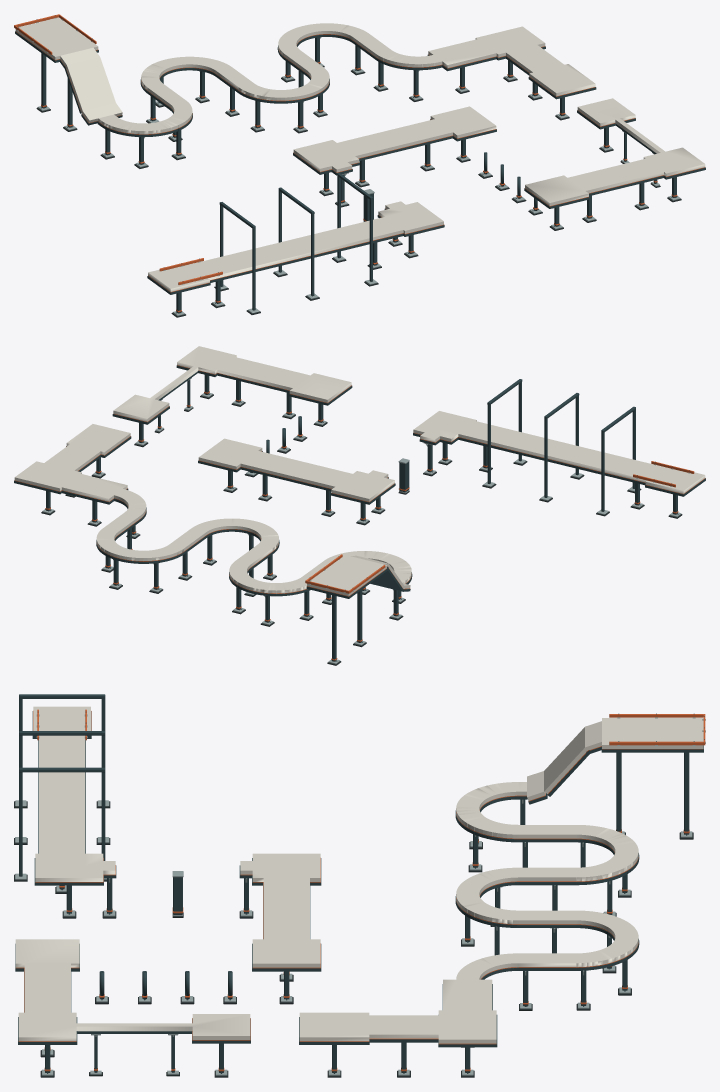
File: water-rush-track.glb
3 views of the same model, one above another, from view 1: azimuth 30°, elevation 25°; view 2: azimuth 150°, elevation 25°; view 3: azimuth 270°, elevation 25° (orthographic). The views are drawn at different scales.
Visible parts, largest first — view 1: TrackStatic; view 2: TrackStatic; view 3: TrackStatic.
Boxes of the visible parts, x1,y1,x2,y2 form: TrackStatic: [14, 14, 705, 317]; TrackStatic: [14, 346, 705, 665]; TrackStatic: [14, 694, 705, 1077].
Size of the model in its own units: 54.48 by 8.42 by 47.77.
